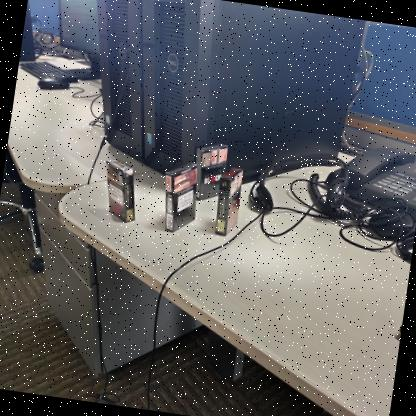bungkus rokok: (152, 155, 204, 240), (93, 157, 142, 233), (207, 162, 251, 240), (189, 135, 233, 206)
